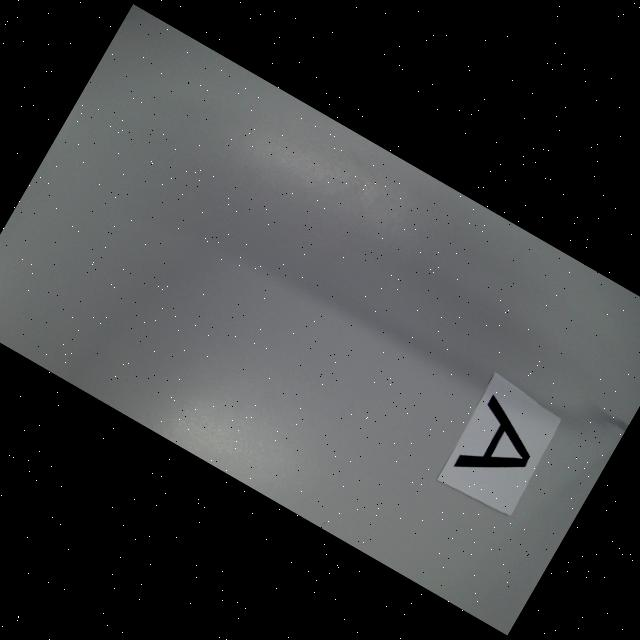FAKE: (451, 395, 548, 499)
